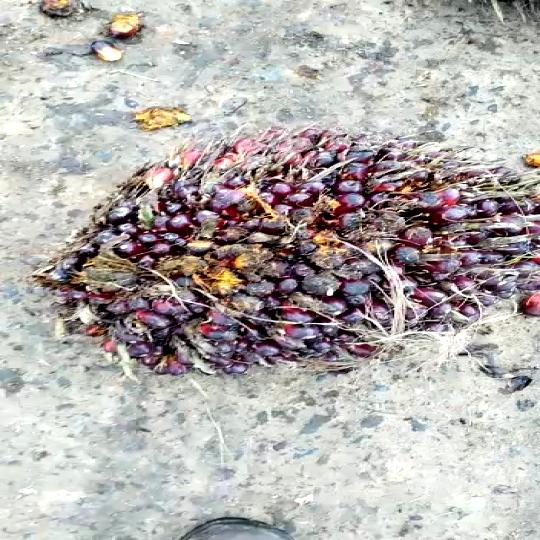masak: (32, 128, 540, 372)
